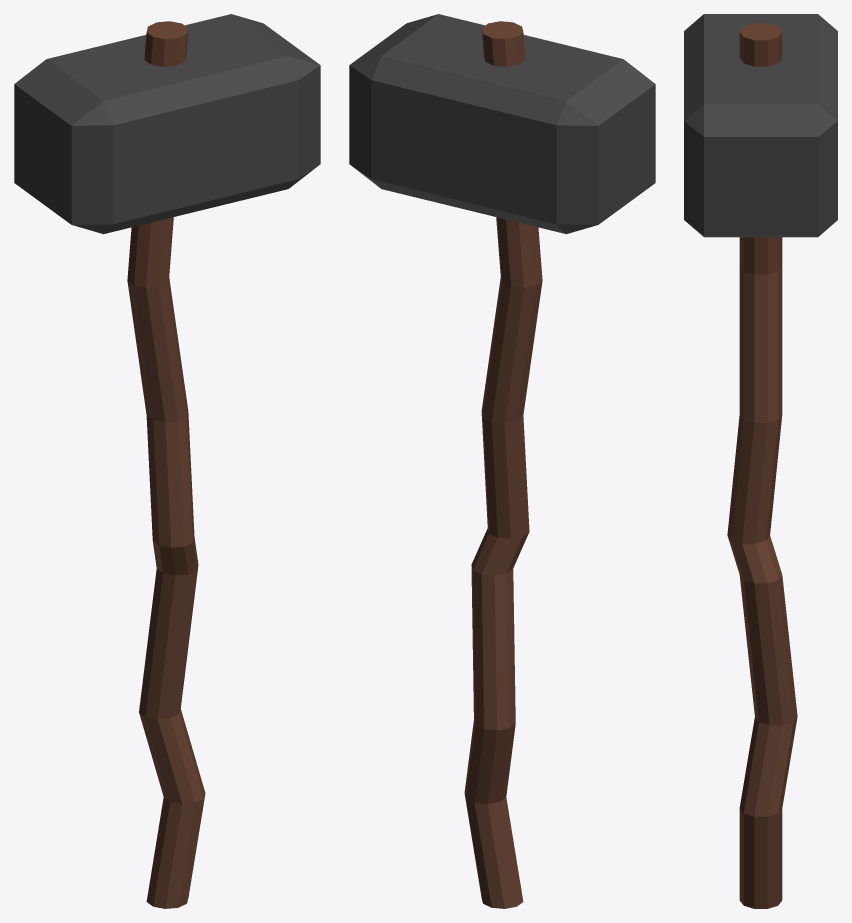
File: gros marteau mine.fbx
The picture shows the model from 3 angles, left to right: view 1: azimuth 30°, elevation 25°; view 2: azimuth 150°, elevation 25°; view 3: azimuth 270°, elevation 25°; orthographic projection.
Parts seen in each view (by area): view 1: enclume marteau, manche marteau; view 2: enclume marteau, manche marteau; view 3: enclume marteau, manche marteau.
Boxes of the visible parts, left/top/right/bottom form: enclume marteau: left=14, top=14, right=320, bottom=234; manche marteau: left=127, top=21, right=205, bottom=908; enclume marteau: left=349, top=14, right=655, bottom=234; manche marteau: left=464, top=21, right=542, bottom=908; enclume marteau: left=684, top=14, right=837, bottom=237; manche marteau: left=727, top=23, right=797, bottom=908.
Size of the model in its own units: 200 by 667 by 107.
